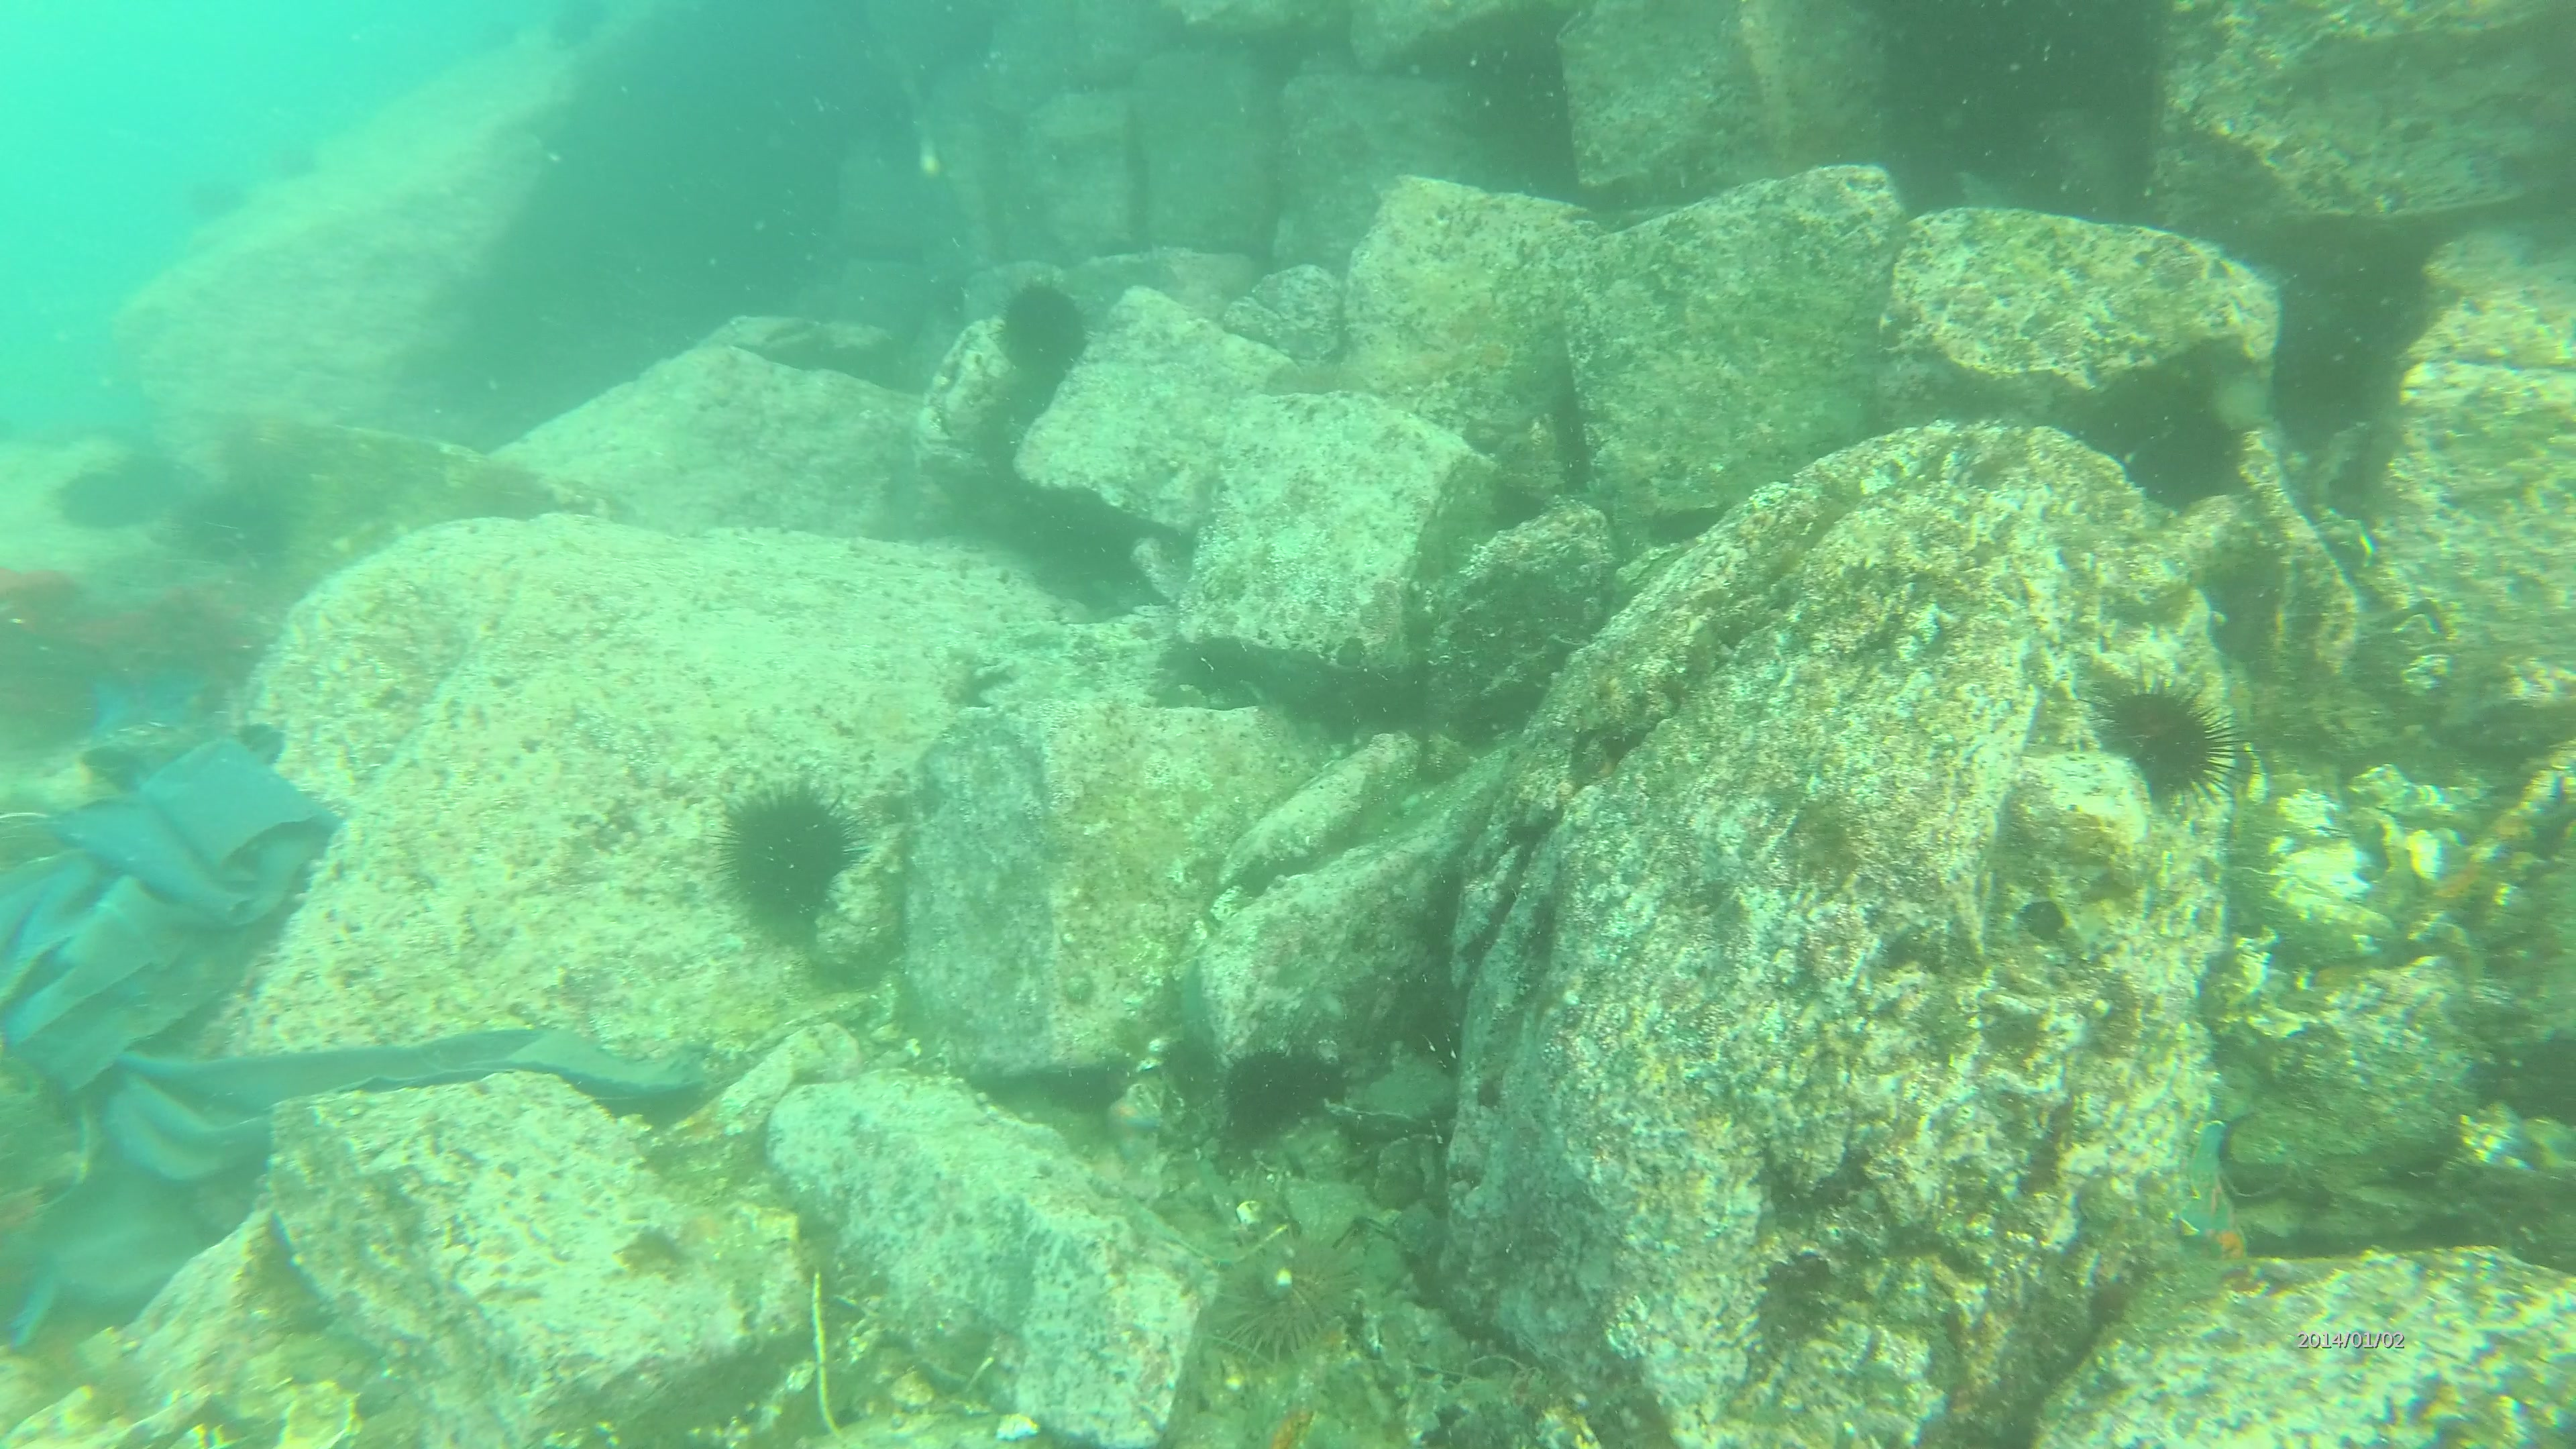echinus: (706, 778, 858, 936), (2084, 671, 2243, 816), (1221, 1221, 1362, 1355), (1226, 1046, 1332, 1139), (996, 271, 1088, 379)
starfish: (2158, 1120, 2275, 1274)
